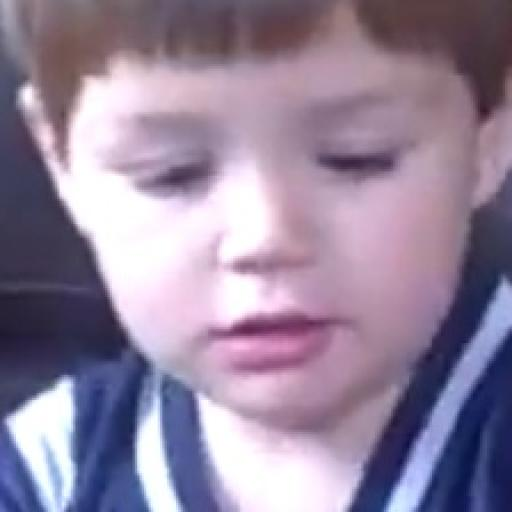Autism: (10, 6, 512, 476)
